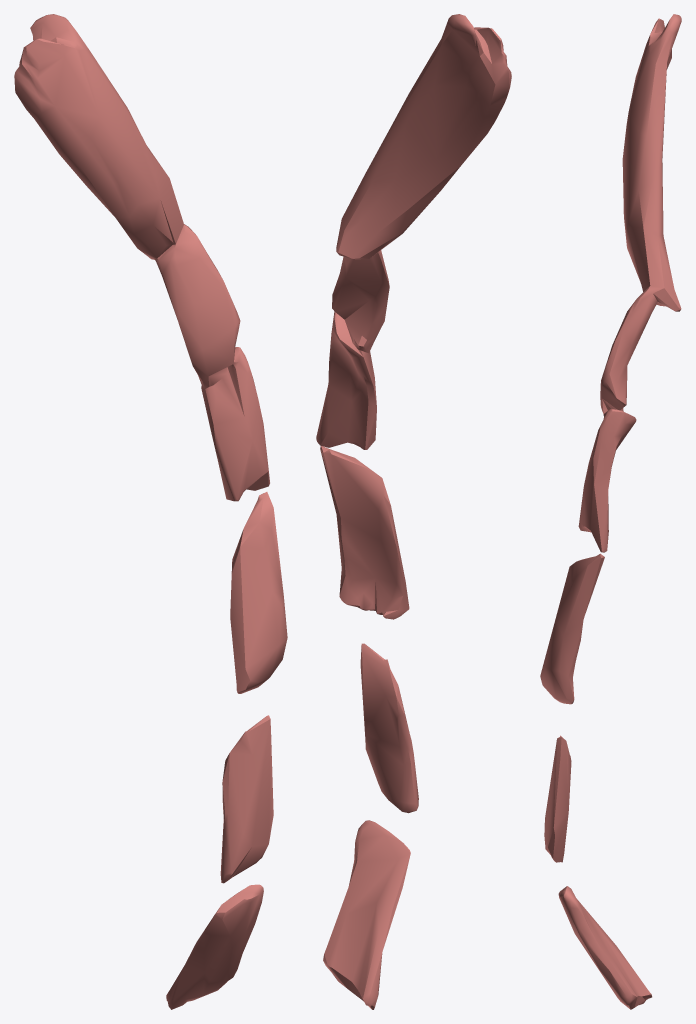
The model's file is fma71442_fj1549.glb.
3 renders of one model, left to right at view 1: azimuth 30°, elevation 25°; view 2: azimuth 150°, elevation 25°; view 3: azimuth 270°, elevation 25°, orthographic. The views are drawn at different scales.
Visible parts, largest first — view 1: FMA71442_FJ1549; view 2: FMA71442_FJ1549; view 3: FMA71442_FJ1549.
Part boxes in pixels (box(x1,y1,x2,y2)): FMA71442_FJ1549: box(14, 14, 287, 1009); FMA71442_FJ1549: box(316, 14, 511, 1009); FMA71442_FJ1549: box(540, 14, 681, 1009).
Bounding box in the file's own units: 0.0221 × 0.096 × 0.0131.
